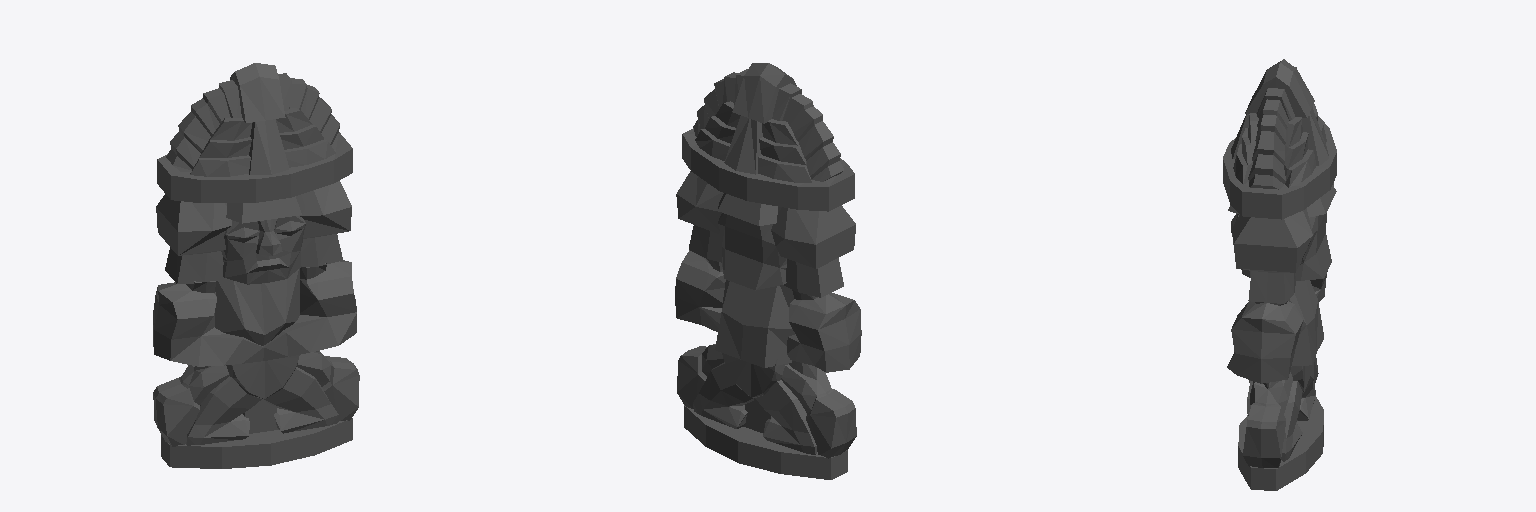
Rendered from Statue_Parts.obj.
3 renders of one model, left to right at view 1: azimuth 30°, elevation 25°; view 2: azimuth 150°, elevation 25°; view 3: azimuth 270°, elevation 25°, orthographic.
Parts seen in each view (by area): view 1: Statue_Hat, Statue_Footer, Statue_Torso, Statue_Head; view 2: Statue_Hat, Statue_Footer, Statue_Head, Statue_Torso; view 3: Statue_Hat, Statue_Footer, Statue_Head, Statue_Torso.
Boxes of the visible parts, x1,y1,x2,y2 form: Statue_Hat: [157, 63, 352, 202]; Statue_Footer: [153, 351, 359, 468]; Statue_Torso: [153, 260, 356, 366]; Statue_Head: [156, 181, 351, 284]; Statue_Hat: [682, 63, 854, 211]; Statue_Footer: [677, 344, 856, 479]; Statue_Head: [676, 171, 855, 297]; Statue_Torso: [675, 250, 861, 372]; Statue_Hat: [1223, 59, 1336, 219]; Statue_Footer: [1238, 357, 1323, 490]; Statue_Head: [1228, 183, 1336, 303]; Statue_Torso: [1227, 271, 1327, 383].
Bounding box in the file's own units: 1957 × 3940 × 1056.